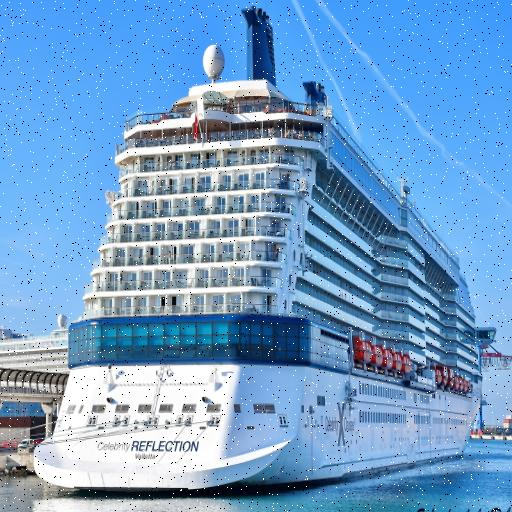cruises: (35, 1, 487, 496)
